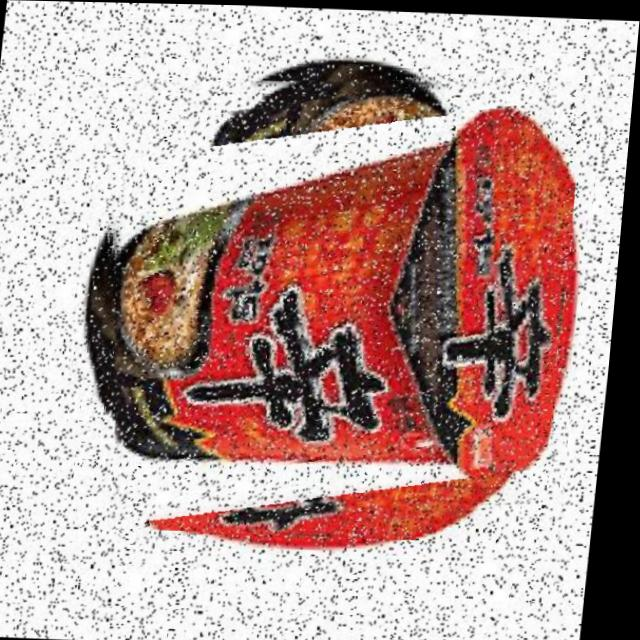Miscellaneous: (82, 61, 588, 540)
